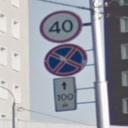speed_limit_40: (37, 10, 85, 44)
